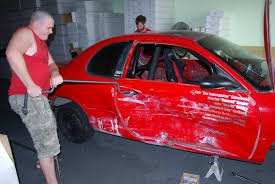Dent: (102, 81, 263, 159)
Scratch: (150, 101, 237, 123), (150, 130, 225, 153), (96, 119, 122, 135)
